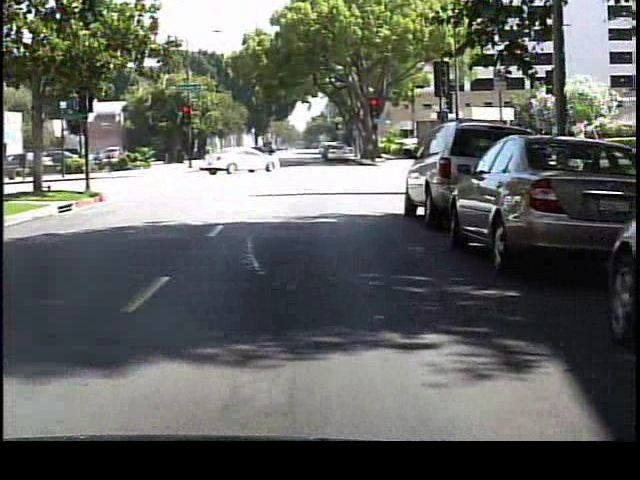person: (266, 140, 281, 171)
